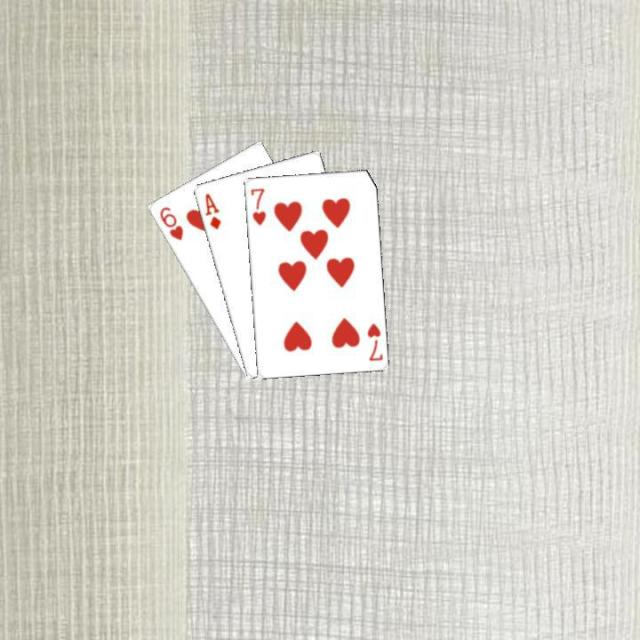6H: (155, 202, 185, 242)
7H: (246, 184, 268, 227), (363, 319, 384, 363)
AD: (201, 189, 222, 231)
